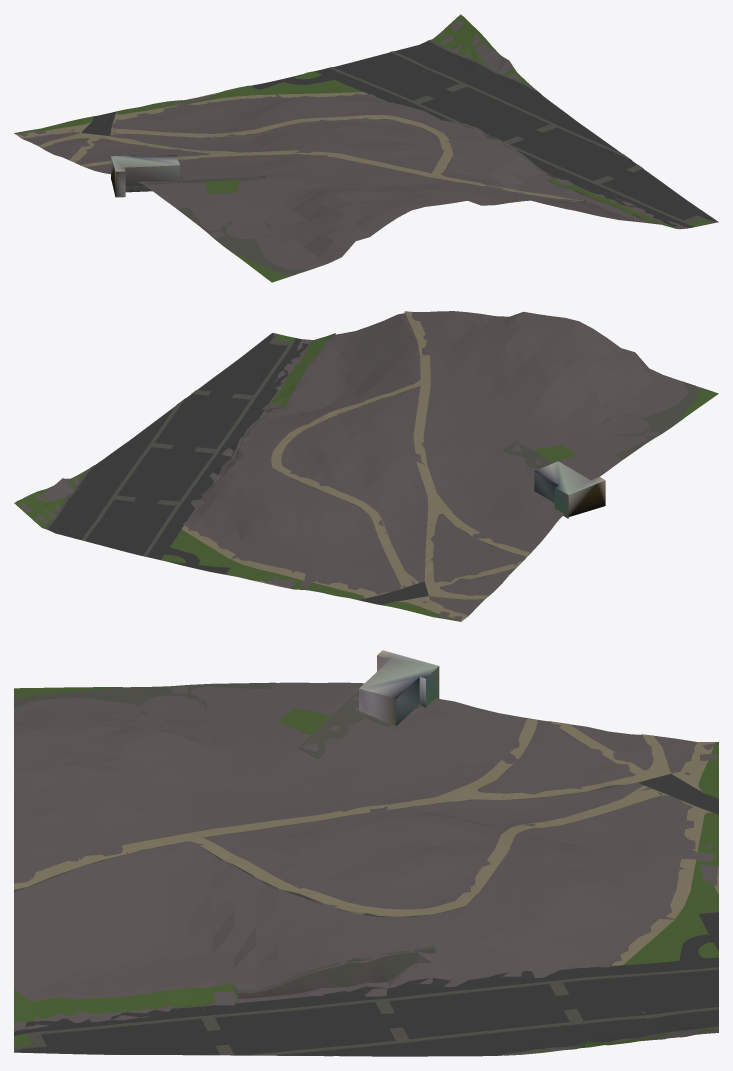
3 renders of one model, top to bottom at view 1: azimuth 30°, elevation 25°; view 2: azimuth 150°, elevation 25°; view 3: azimuth 270°, elevation 25°, orthographic. The views are drawn at different scales.
Parts seen in each view (by area): view 1: c_m09_m18; view 2: c_m09_m18; view 3: c_m09_m18.
Boxes of the visible parts, x1,y1,x2,y2 form: c_m09_m18: (14, 14, 718, 282); c_m09_m18: (14, 311, 718, 621); c_m09_m18: (14, 650, 718, 1056).
Bounding box in the file's own units: 134 × 24.65 × 128.
